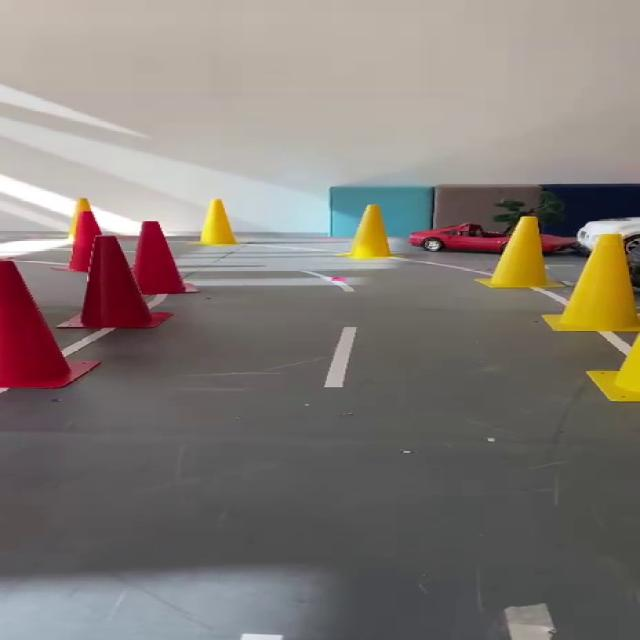Cone-red: (0, 260, 99, 390), (61, 235, 168, 328)
